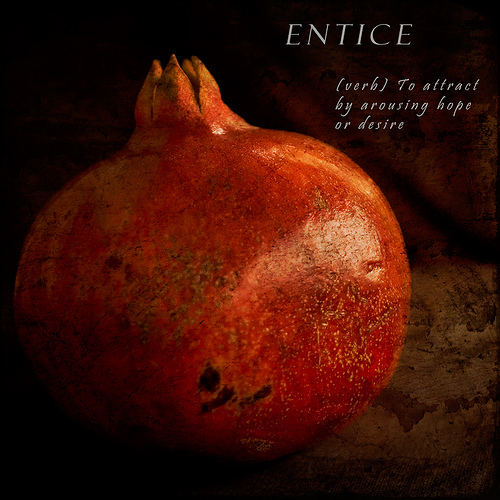pomogranate: (12, 56, 413, 441)
